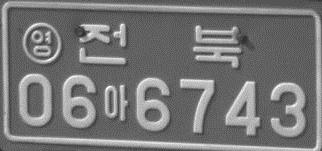0: (17, 72, 53, 128)
3: (269, 80, 307, 138)
4: (225, 80, 260, 136)
6: (134, 75, 172, 132), (61, 73, 98, 129)
7: (178, 77, 216, 134)
아: (103, 83, 129, 121)
영: (22, 20, 61, 66)
전북_D: (78, 22, 241, 68)
